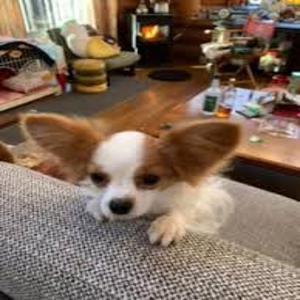yell: (21, 112, 243, 248)
